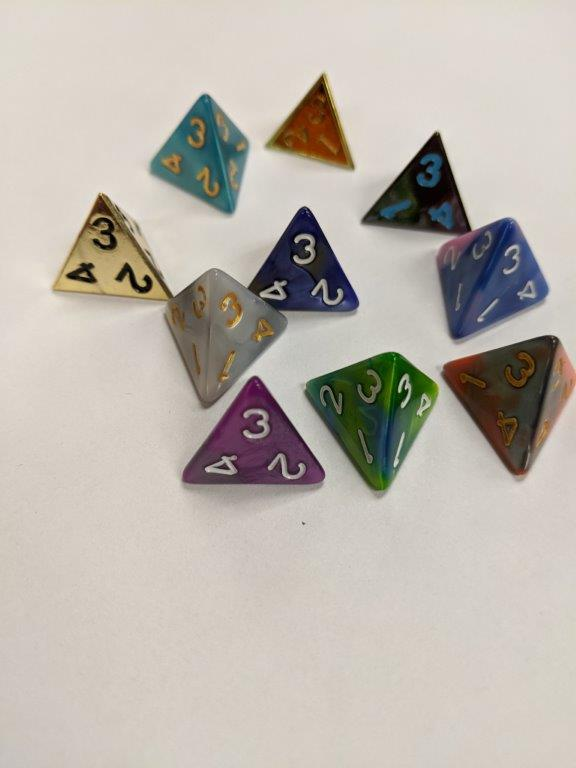d4-3: (435, 333, 576, 486), (303, 347, 438, 495), (162, 266, 288, 405), (176, 377, 327, 490), (432, 217, 552, 338), (53, 190, 177, 307), (356, 127, 478, 237), (244, 205, 361, 319), (148, 92, 252, 217), (260, 69, 360, 177)
